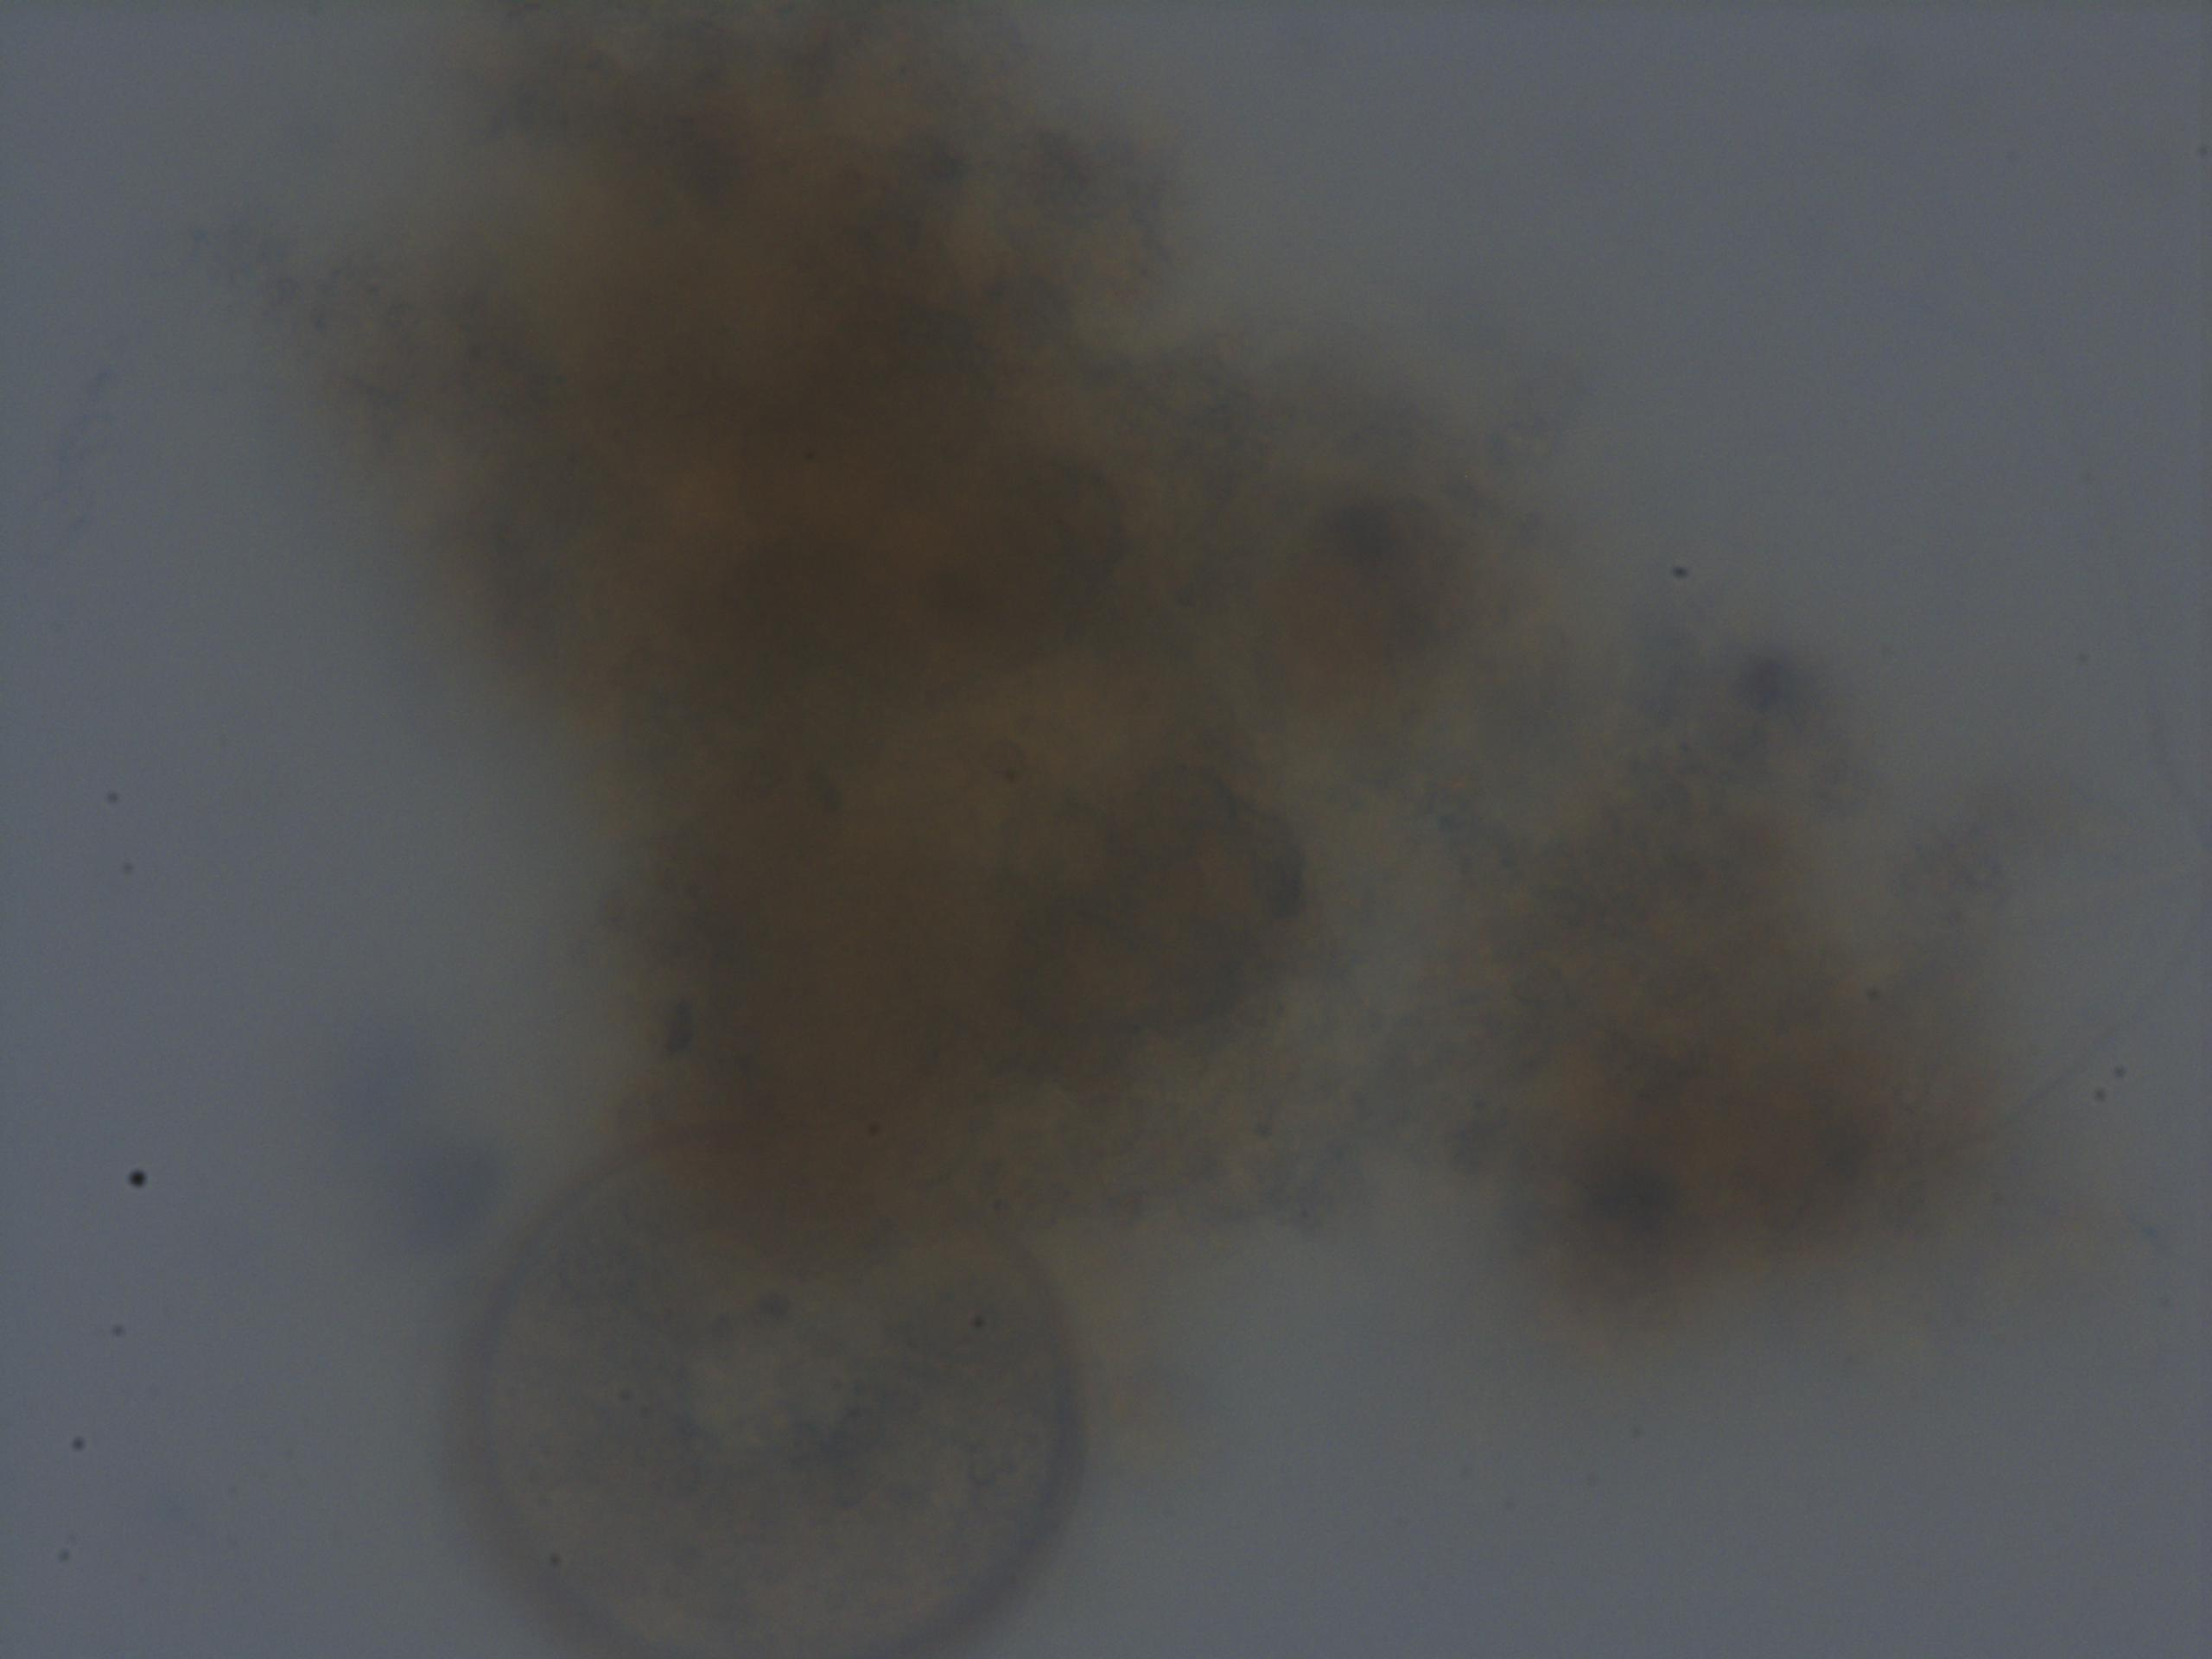protozoa: (444, 1105, 1094, 1652)
spherical_floc: (307, 0, 2102, 1331)
